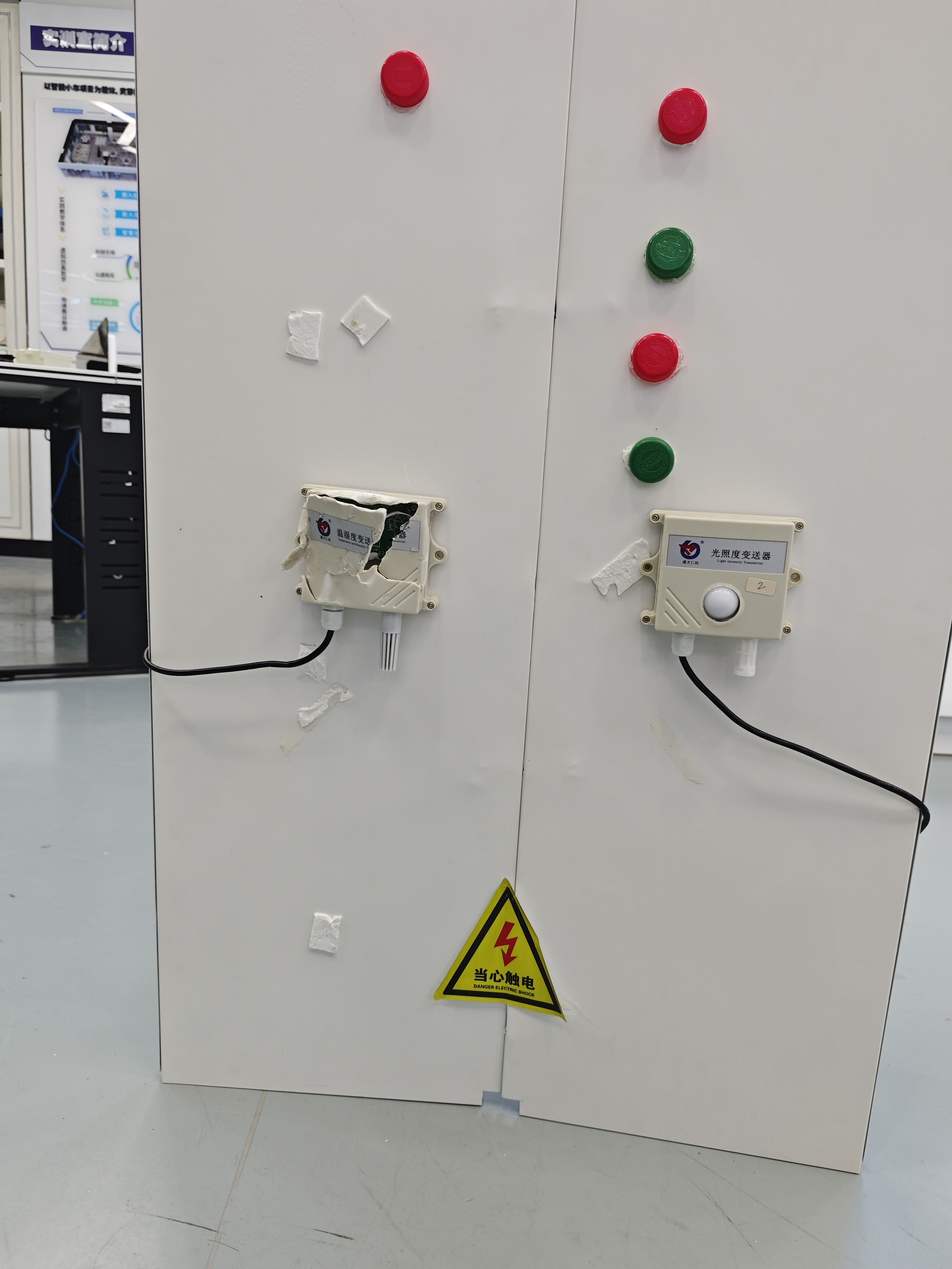red_warning: (643, 70, 725, 165), (600, 314, 689, 400), (362, 41, 467, 106)
sensor_damage: (269, 464, 478, 695)
